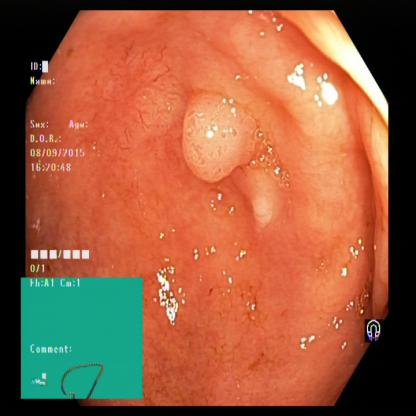Labels: (27, 48, 110, 276), (20, 278, 141, 400), (366, 306, 388, 359)
Polyps: (178, 77, 279, 185)
